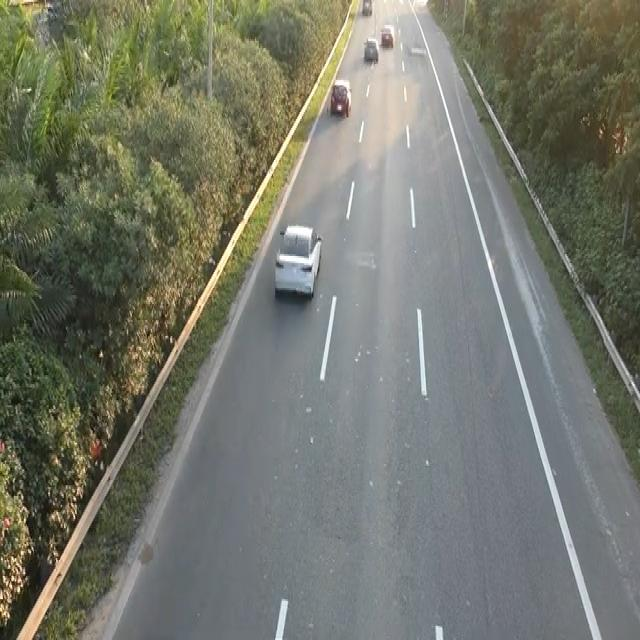bus: (271, 220, 325, 306), (329, 76, 352, 118)
